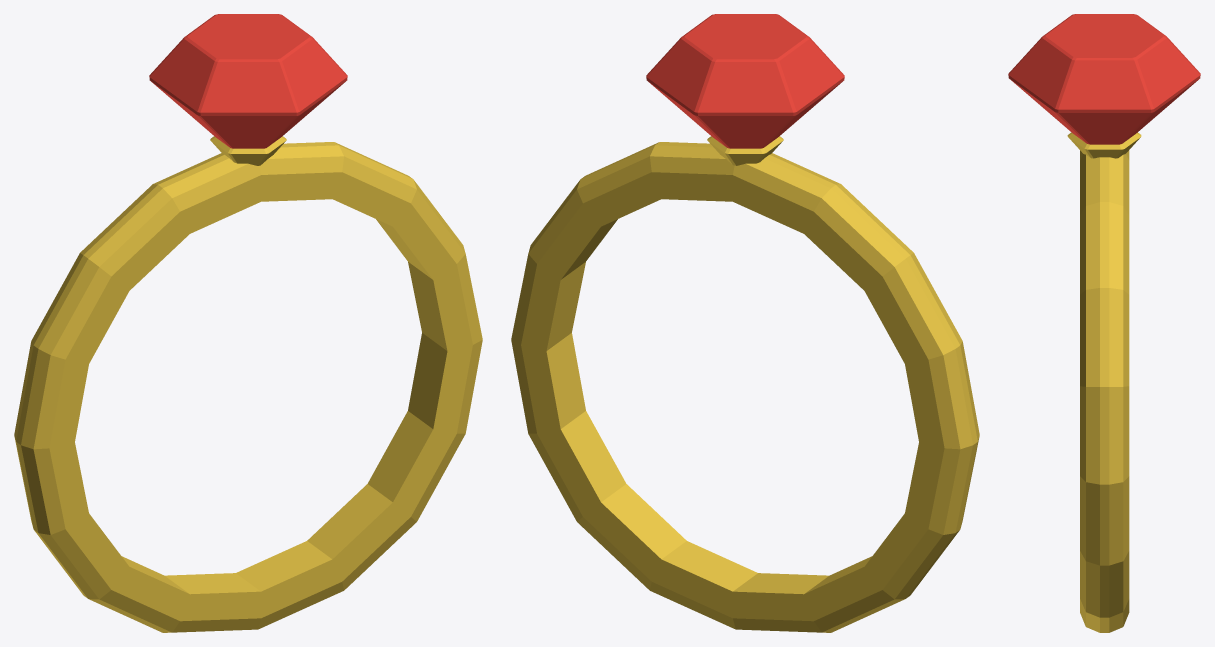
File: Env_Cincin_01a.fbx
The picture shows the model from 3 angles, left to right: view 1: azimuth 30°, elevation 25°; view 2: azimuth 150°, elevation 25°; view 3: azimuth 270°, elevation 25°; orthographic projection. The views are drawn at different scales.
Parts seen in each view (by area): view 1: Ring Diamond; view 2: Ring Diamond; view 3: Ring Diamond.
Part boxes in pixels (left/top/right/bottom): Ring Diamond: left=14, top=14, right=482, bottom=632; Ring Diamond: left=511, top=14, right=979, bottom=632; Ring Diamond: left=1008, top=14, right=1200, bottom=632.
Size of the model in its own units: 99.52 by 122 by 37.15.
